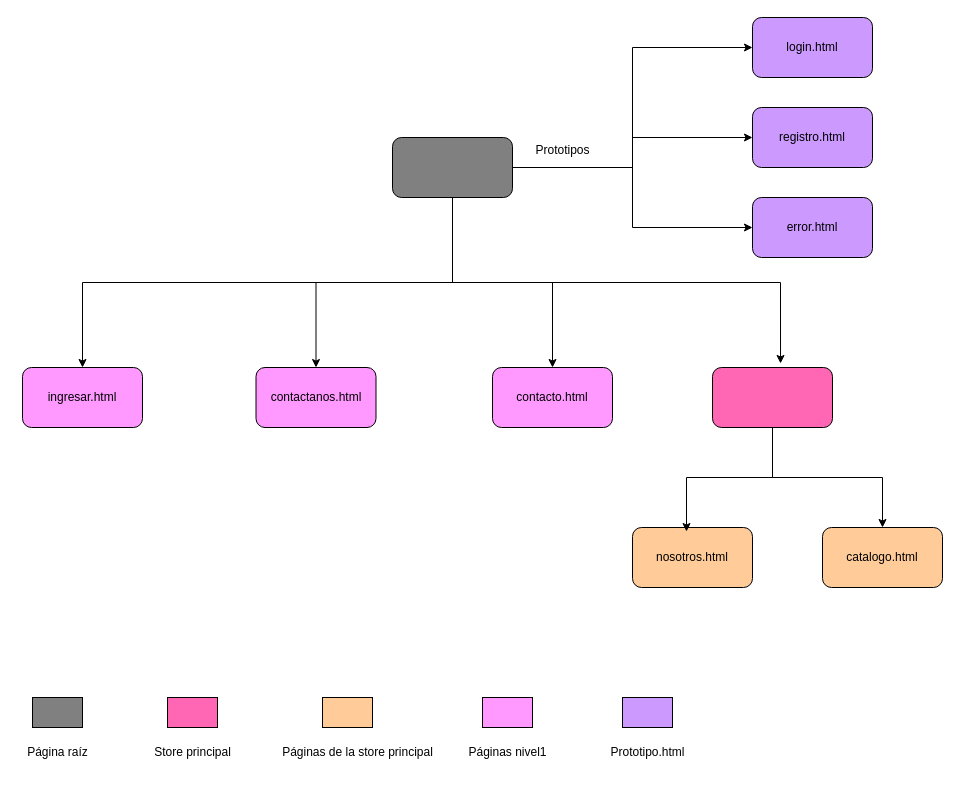
Image size: 960x785. Some labels were removed from this diagram. Here are the shapes that lost their labels. From the top down, the centre of each, then its label:
the point at 452,167: index.html
the point at 772,397: indexstore.html
